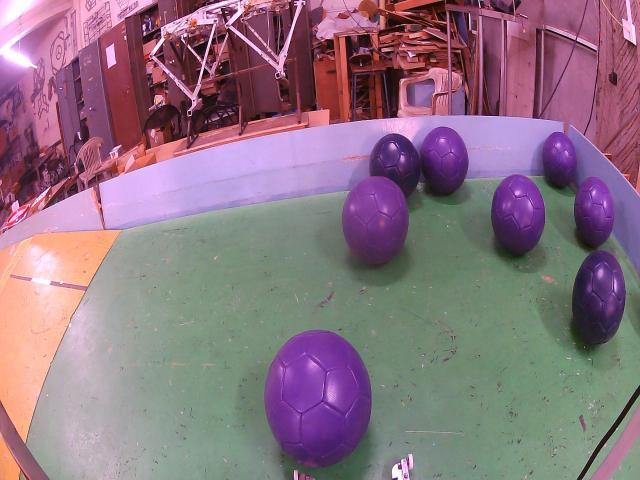jambhalya: (264, 329, 371, 467), (342, 177, 409, 265), (491, 175, 545, 255), (420, 127, 469, 193), (574, 177, 615, 247), (542, 132, 578, 188)
kaalyya: (572, 250, 626, 345), (370, 133, 421, 197)
